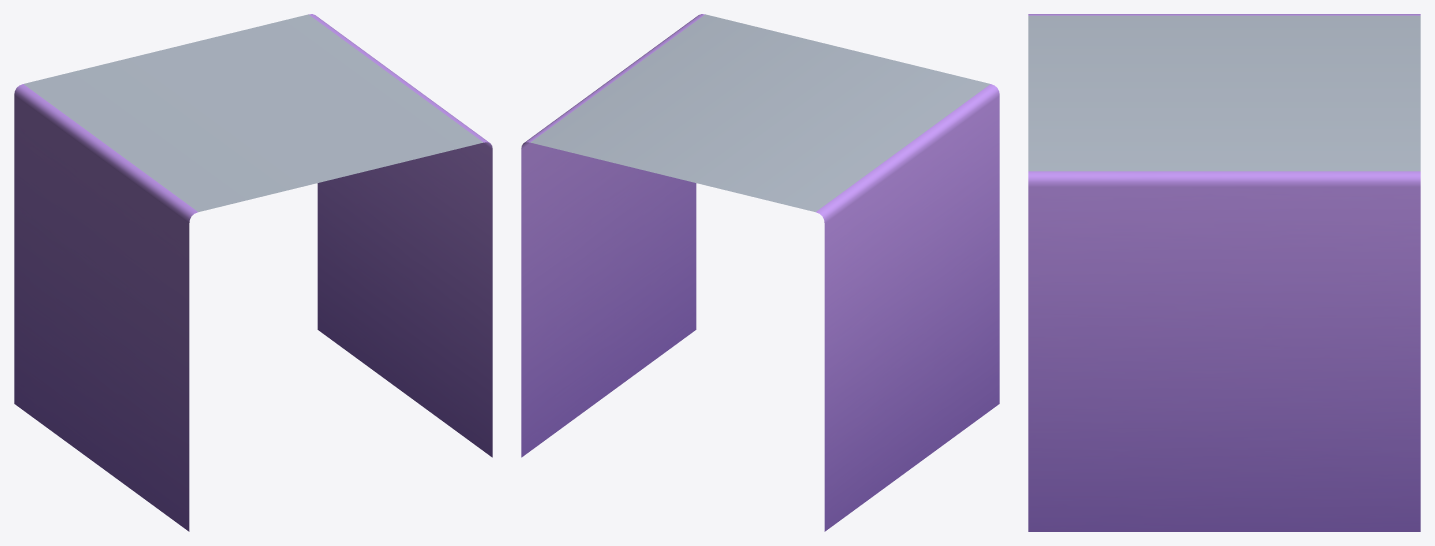
File: Platform.fbx
3 views of the same model, side by side, from view 1: azimuth 30°, elevation 25°; view 2: azimuth 150°, elevation 25°; view 3: azimuth 270°, elevation 25° (orthographic). The views are drawn at different scales.
Visible parts, largest first — view 1: Platform; view 2: Platform; view 3: Platform.
Part boxes in pixels (left/top/right/bottom): Platform: left=14, top=14, right=492, bottom=531; Platform: left=521, top=14, right=999, bottom=531; Platform: left=1028, top=14, right=1420, bottom=531.
Bounding box in the file's own units: 500 × 500 × 500.
